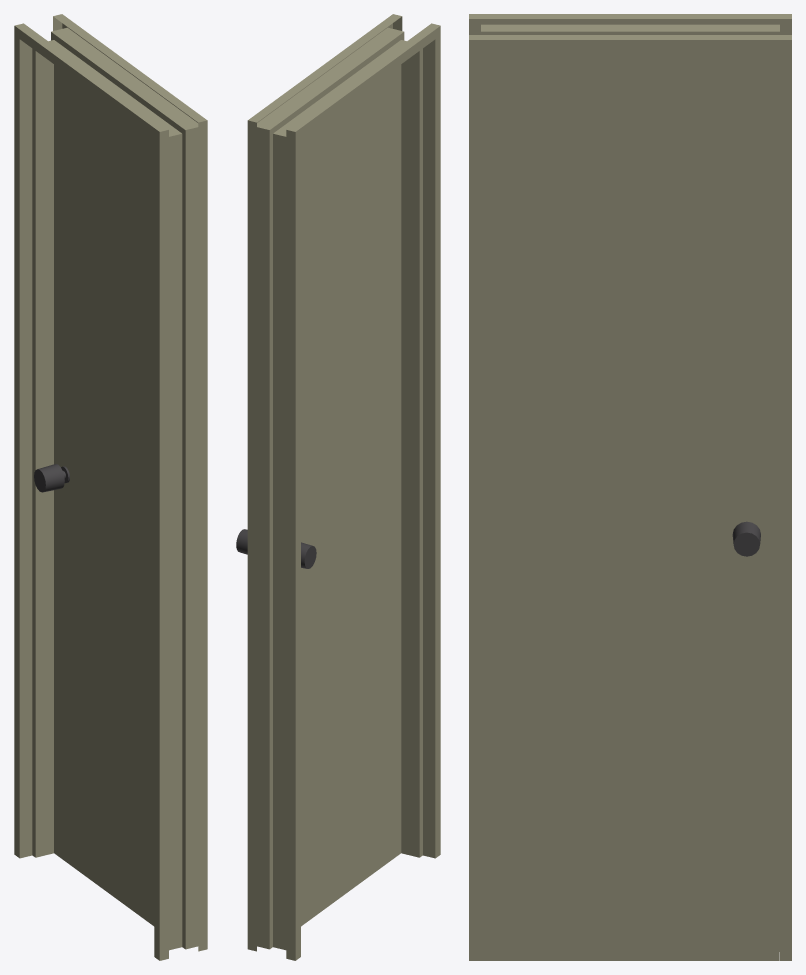
Rendered from door4.FBX.
The picture shows the model from 3 angles, left to right: view 1: azimuth 30°, elevation 25°; view 2: azimuth 150°, elevation 25°; view 3: azimuth 270°, elevation 25°; orthographic projection. The views are drawn at different scales.
Visible parts, largest first — view 1: 134:2:5; view 2: 134:2:5; view 3: 134:2:5.
Part boxes in pixels (left/top/right/bottom): 134:2:5: left=14, top=14, right=207, bottom=960; 134:2:5: left=236, top=14, right=440, bottom=960; 134:2:5: left=469, top=14, right=791, bottom=960.
Size of the model in its own units: 7.83 by 84.25 by 26.77.
